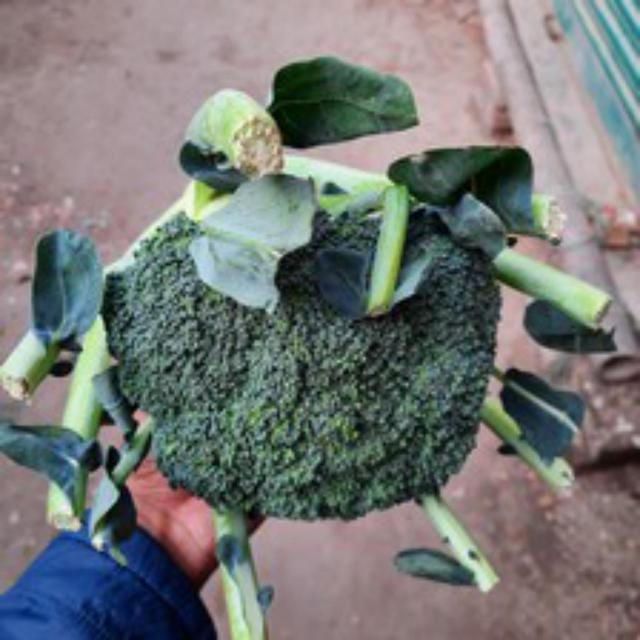broccoli: (107, 181, 507, 538)
